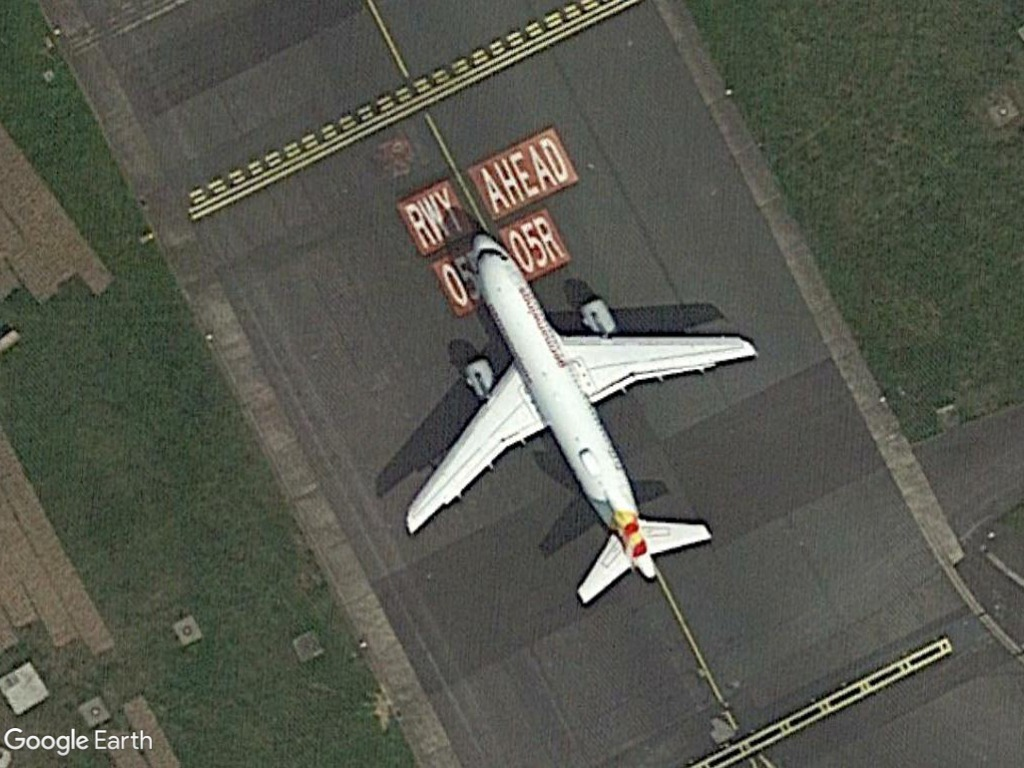airliner: (399, 228, 764, 605)
